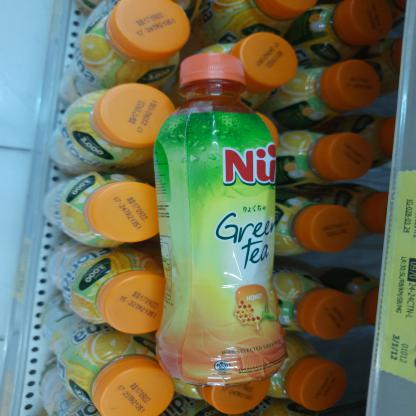plastic: (150, 50, 290, 391)
